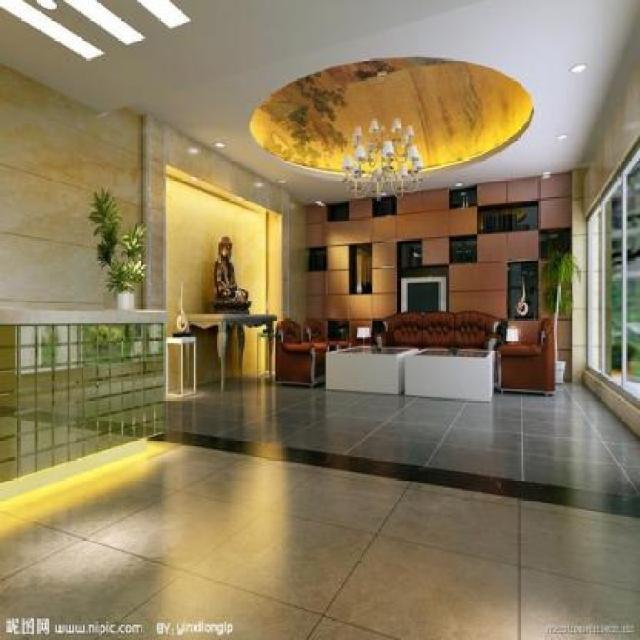frontdesk: (0, 301, 178, 510)
